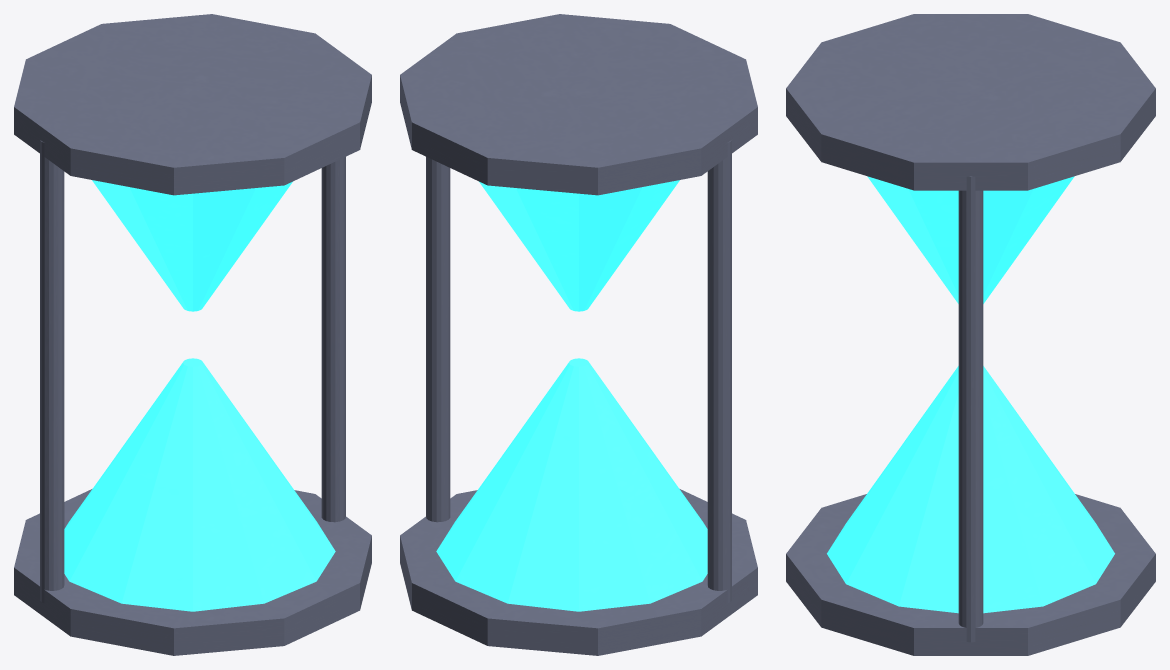
Rendered from stillwater-hourglass.glb.
3 renders of one model, left to right at view 1: azimuth 30°, elevation 25°; view 2: azimuth 150°, elevation 25°; view 3: azimuth 270°, elevation 25°, orthographic.
Visible parts, largest first — view 1: hourglass-cap-top, hourglass-bulb-lower, hourglass-cap-bottom, hourglass-bulb-upper, hourglass-post-1, hourglass-post-0; view 2: hourglass-cap-top, hourglass-bulb-lower, hourglass-cap-bottom, hourglass-bulb-upper, hourglass-post-1, hourglass-post-0; view 3: hourglass-cap-top, hourglass-bulb-lower, hourglass-cap-bottom, hourglass-post-0, hourglass-bulb-upper.
Part boxes in pixels (x1,y1,x2,y2): hourglass-cap-top: (14, 14, 371, 195); hourglass-bulb-lower: (64, 358, 335, 611); hourglass-cap-bottom: (14, 489, 371, 655); hourglass-bulb-upper: (92, 180, 292, 311); hourglass-post-1: (40, 140, 64, 602); hourglass-post-0: (321, 157, 345, 522); hourglass-cap-top: (400, 14, 757, 195); hourglass-bulb-lower: (436, 358, 707, 611); hourglass-cap-bottom: (400, 489, 757, 655); hourglass-bulb-upper: (479, 180, 679, 311); hourglass-post-1: (707, 140, 731, 602); hourglass-post-0: (426, 157, 450, 522); hourglass-cap-top: (786, 14, 1155, 190); hourglass-bulb-lower: (827, 366, 1114, 613); hourglass-cap-bottom: (786, 494, 1155, 655); hourglass-post-0: (958, 176, 983, 642); hourglass-bulb-upper: (867, 176, 1074, 303).
Bounding box in the file's own units: 0.344 × 0.53 × 0.36.
Materials: 3 (3 with a texture image).
